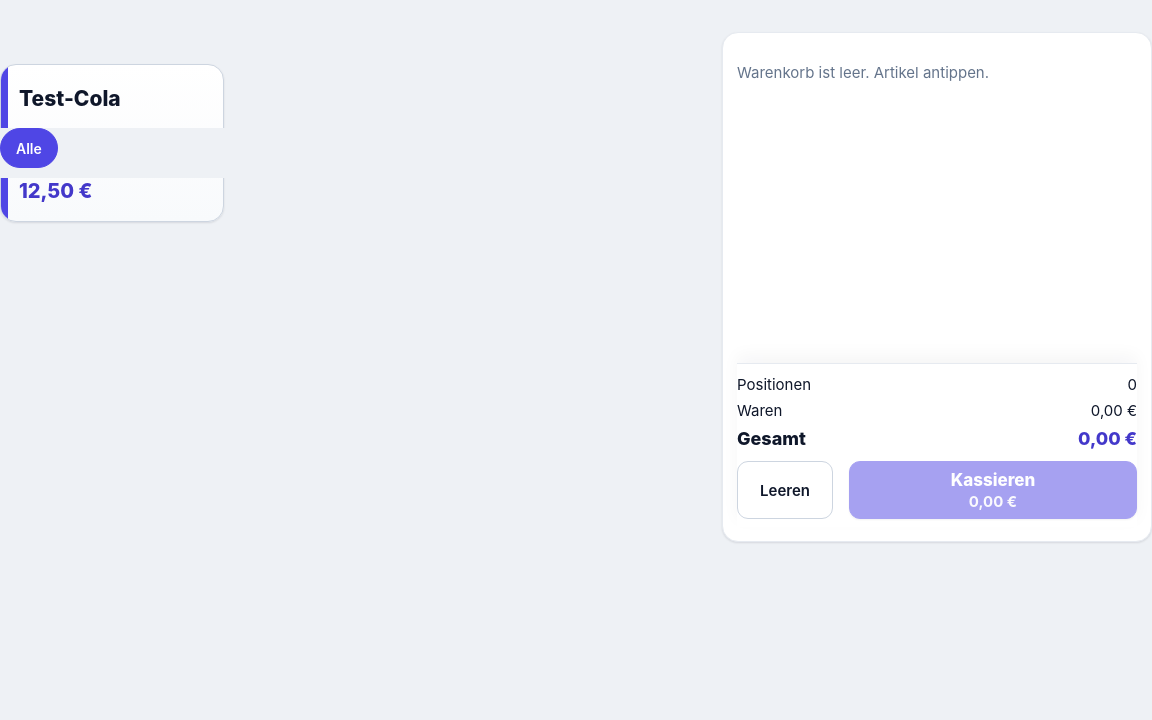
Scenario: Verkauf Component › sollte den kompletten Bezahlvorgang mit Barzahlung simulieren
The image size is (1152, 720).
Click the text "Test-Cola". click: (70, 98)
box: x1=19 y1=86 x2=121 y2=111
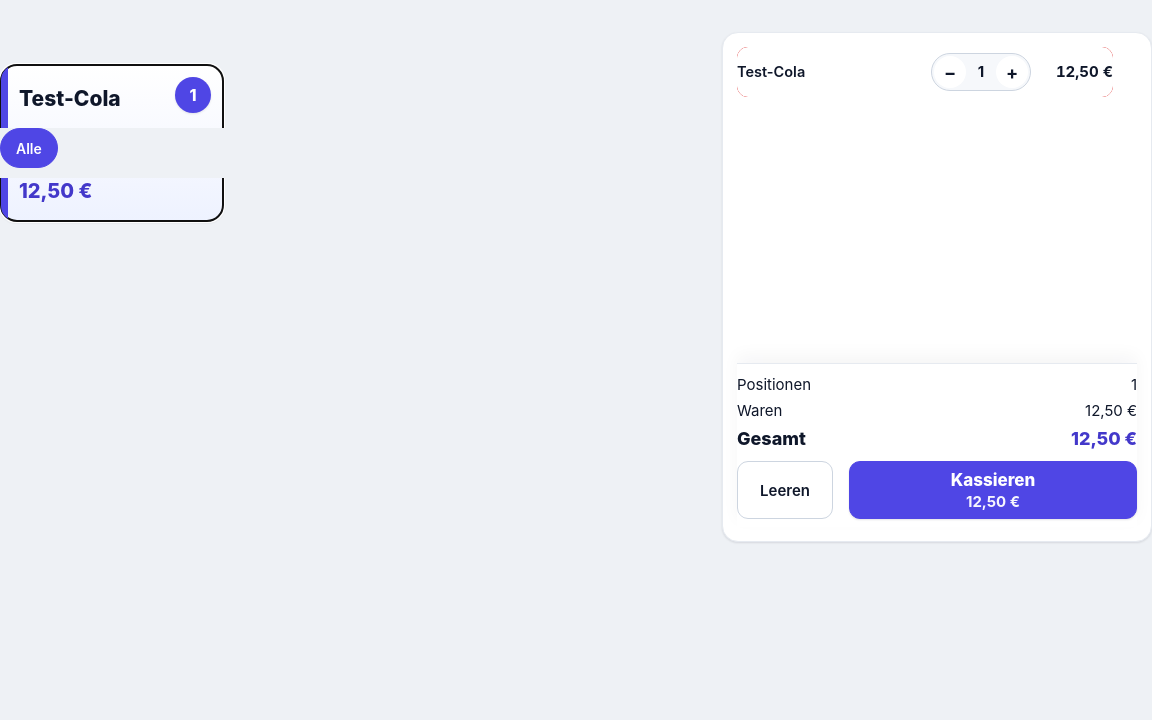
Click the button "Kassieren 12,50 €". click: (993, 490)
box: x1=849 y1=461 x2=1137 y2=519
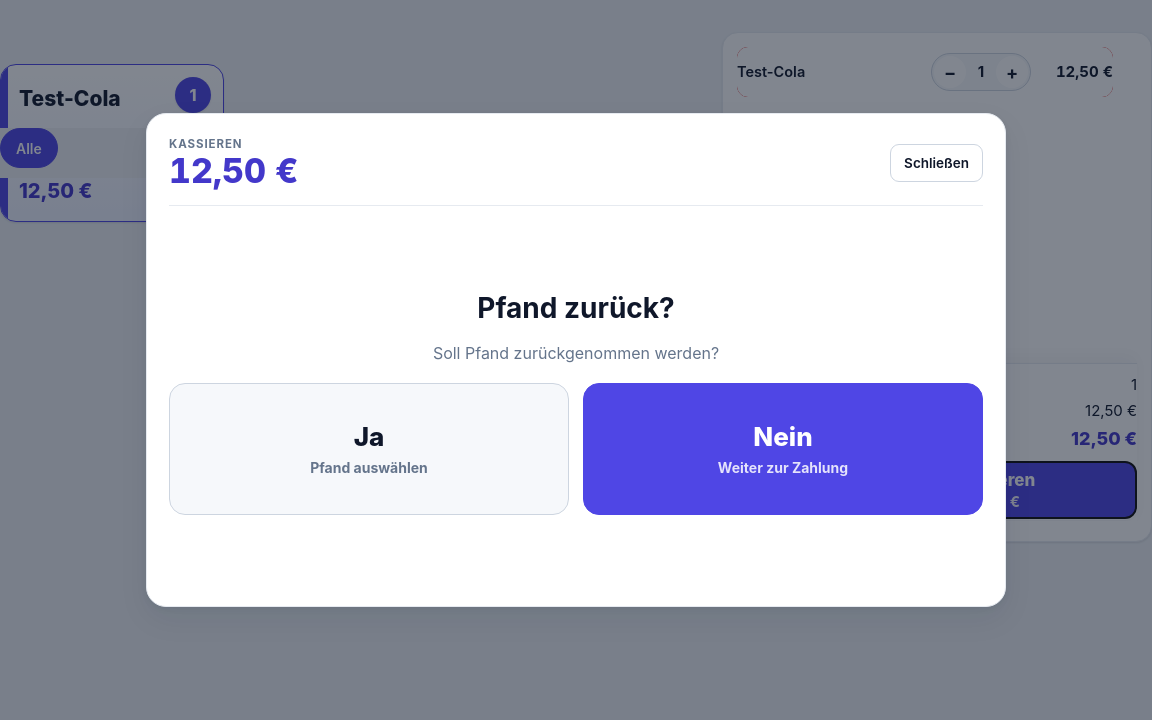
Check: the heading "Pfand zurück?" is shown, box x1=477 y1=291 x2=675 y2=325
Click the button "Nein Weiter zur Zahlung". click: (783, 449)
box: x1=583 y1=383 x2=983 y2=515
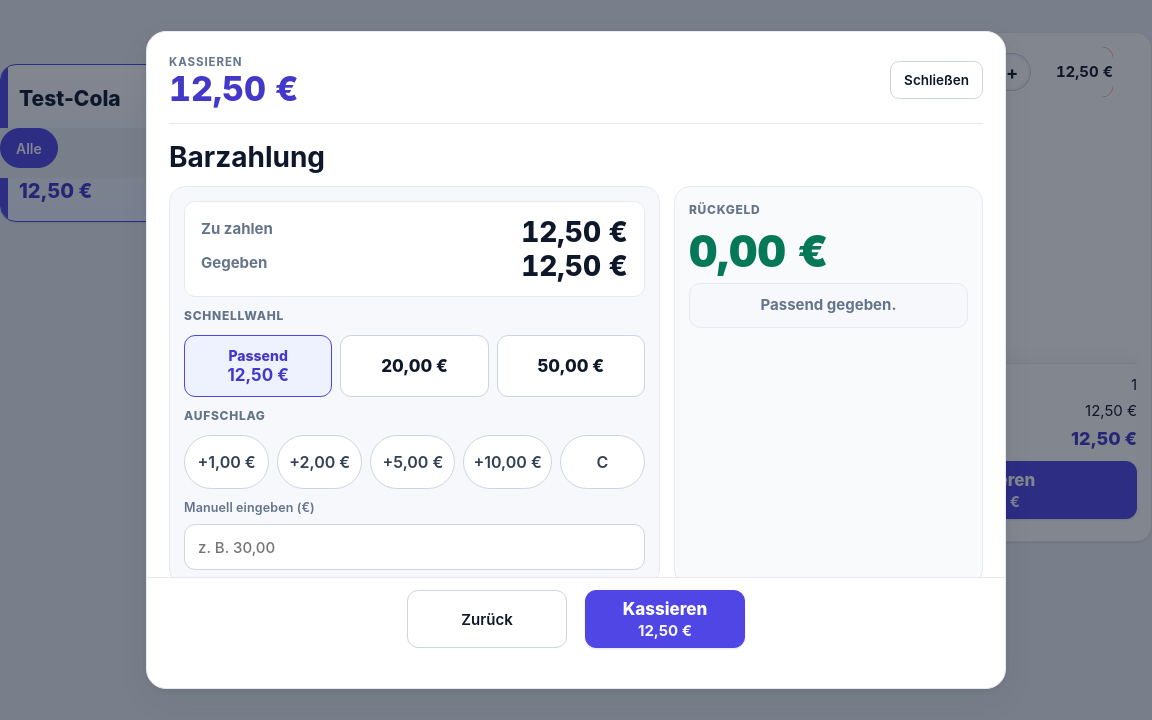
Type "20,00" into the field labelled "Manuell eingeben (€)". click: (414, 547)
box: x1=184 y1=524 x2=645 y2=570
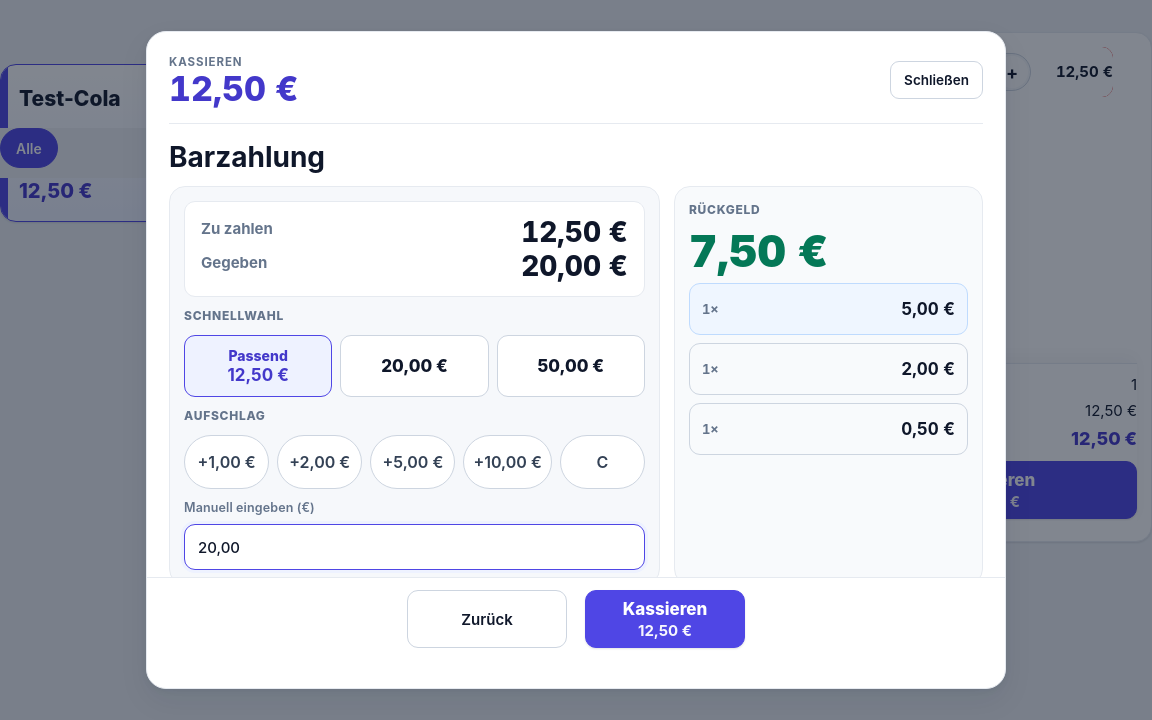
Check: the text "7,50 €" is shown, box x1=689 y1=224 x2=828 y2=278
Click the button "Kassieren 12,50 €". click: (665, 619)
box: x1=585 y1=590 x2=745 y2=648
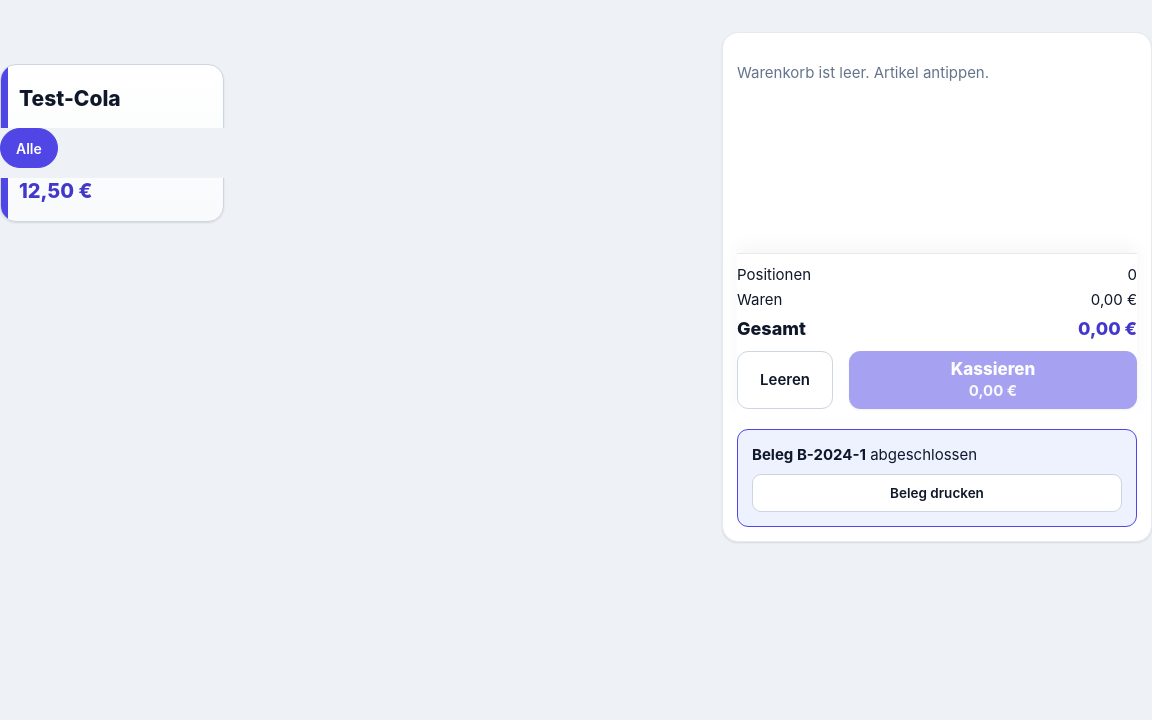
Check: the text "Beleg B-2024-1" is shown, box x1=752 y1=444 x2=866 y2=464
